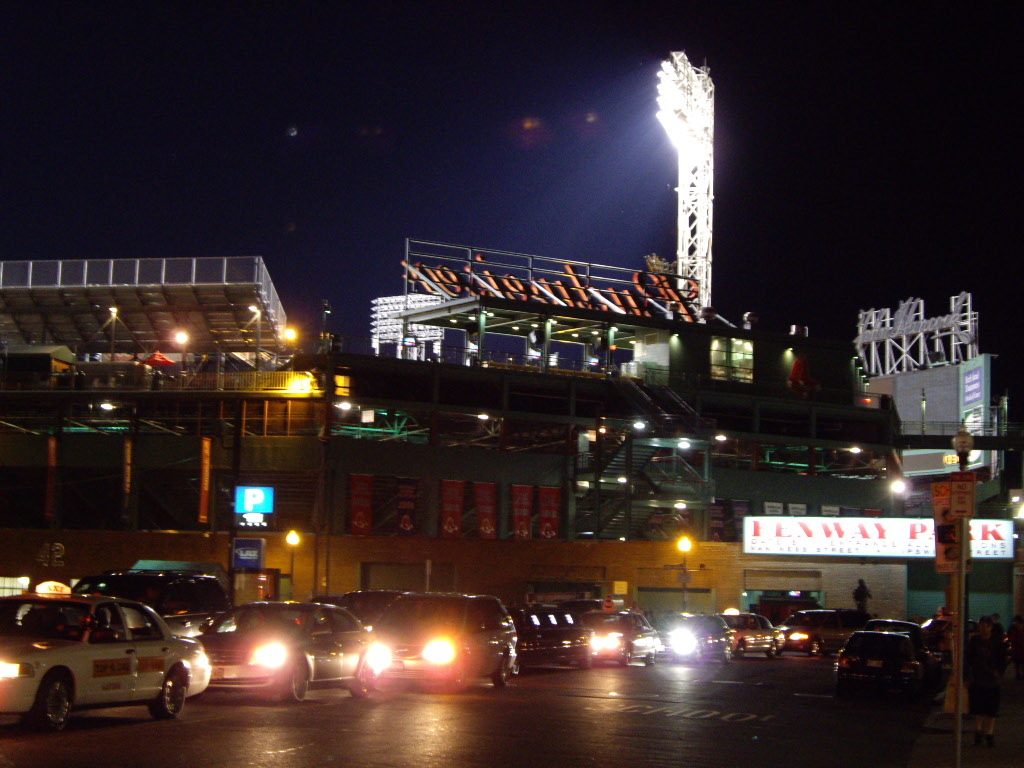mobil: (1, 588, 213, 723), (200, 594, 371, 709), (375, 588, 521, 702)
